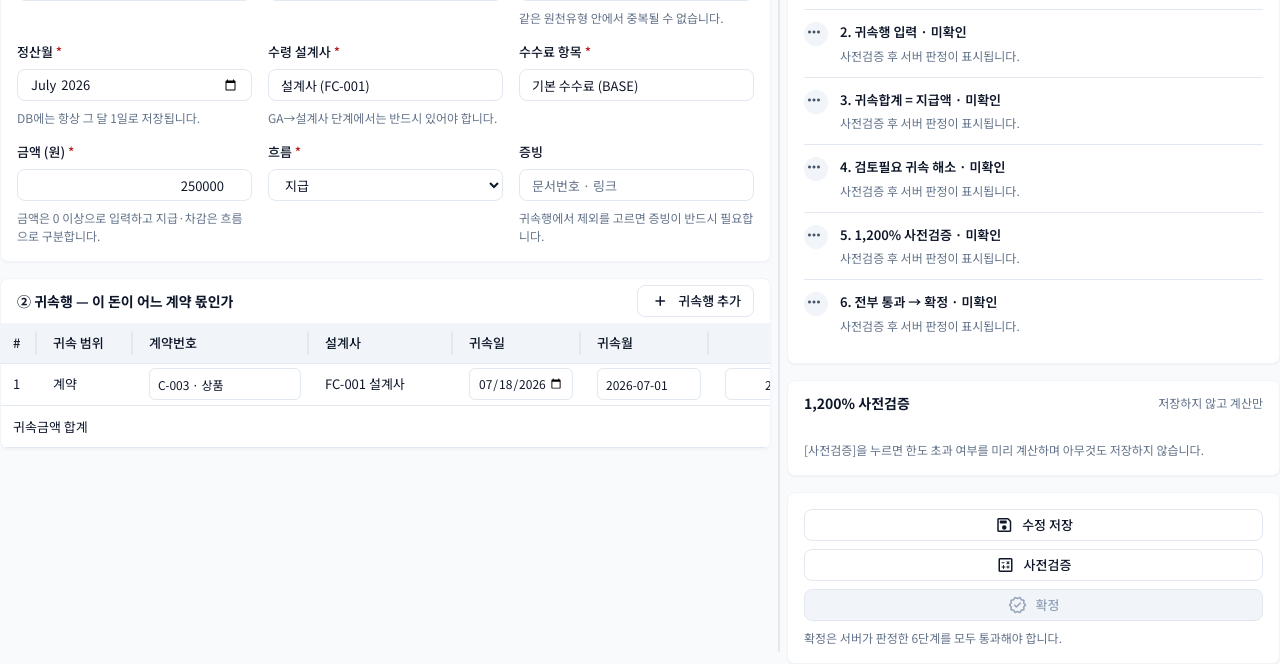
Test: TRAN-W02 React form workflow › shows a non-applicable precheck reason without a usage gauge or numeric amounts
(page scrolled)
What coordinates should you click on to do the following:
click the button with id "btn-precheck"
I would click on:
 (1034, 564)
Its box is [804,548,1263,580].
(page scrolled)
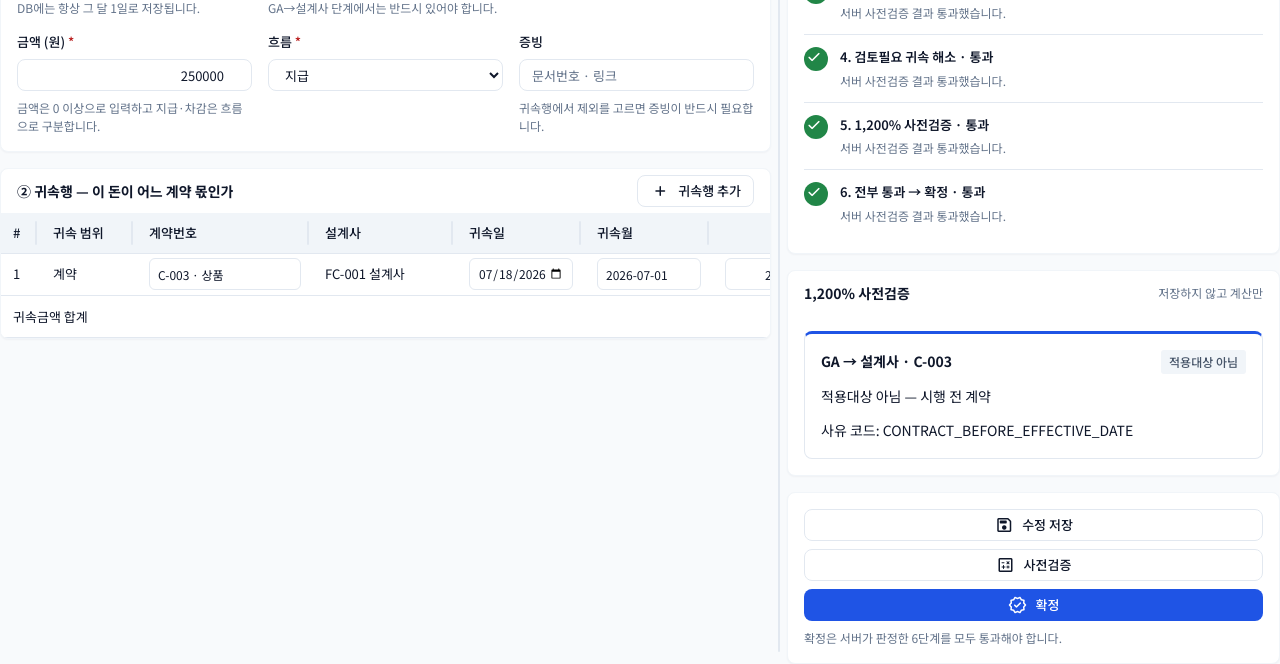
Now the text "적용대상 아님 — 시행 전 계약" is shown, box [821,386,991,406]
Now the text "사유 코드: CONTRACT_BEFORE_EFFECTIVE_DATE" is shown, box [821,420,1133,440]
Now the button with id "btn-confirm" is enabled, box [804,588,1263,620]
